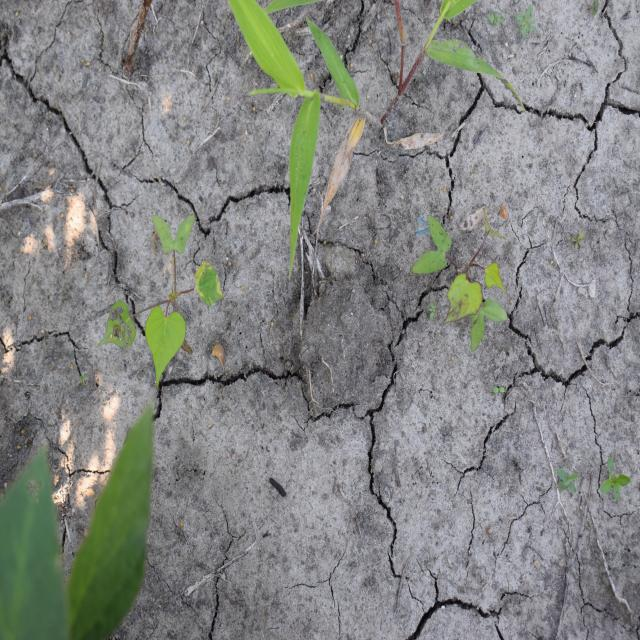MorningGlory: (96, 211, 225, 391), (410, 205, 510, 354)
